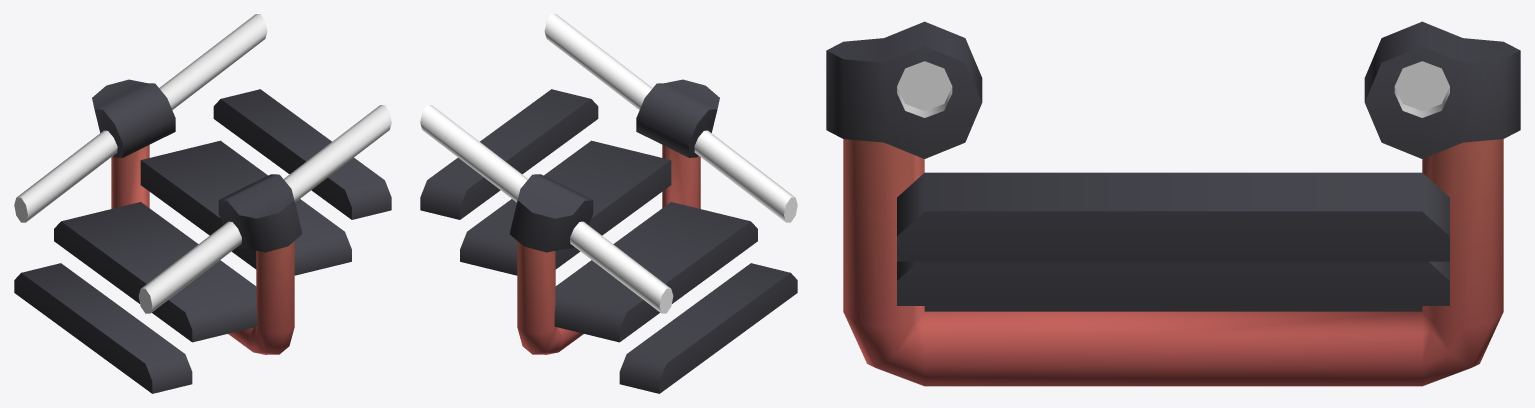
Rendered from catwalk-stairs-loop.obj.
3 views of the same model, side by side, from view 1: azimuth 30°, elevation 25°; view 2: azimuth 150°, elevation 25°; view 3: azimuth 270°, elevation 25° (orthographic). The views are drawn at different scales.
Visible parts, largest first — view 1: catwalk-stairs-loop; view 2: catwalk-stairs-loop; view 3: catwalk-stairs-loop.
Boxes of the visible parts, left/top/right/bottom form: catwalk-stairs-loop: left=14, top=14, right=391, bottom=393; catwalk-stairs-loop: left=420, top=14, right=797, bottom=393; catwalk-stairs-loop: left=826, top=21, right=1520, bottom=386.
Size of the model in its own units: 1 by 0.9 by 1.26.
